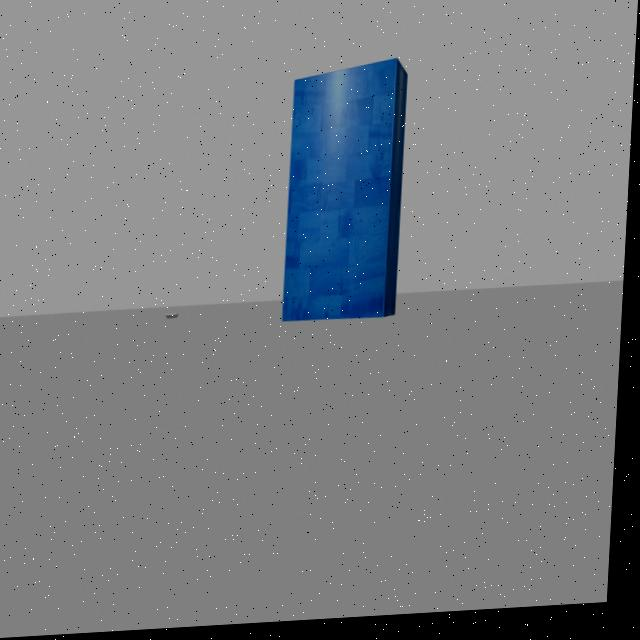bowl: (163, 306, 189, 335)
shelf: (273, 50, 425, 342)
